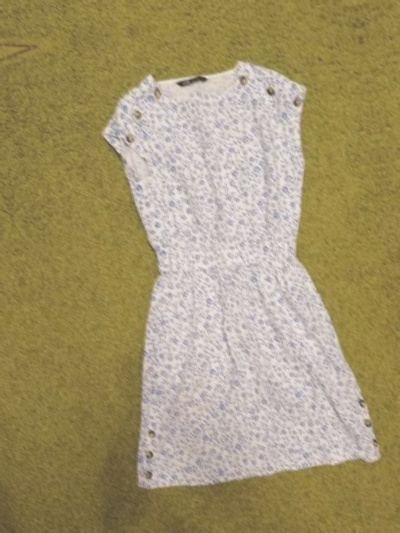Dress: (86, 43, 393, 519), (397, 0, 400, 471)
